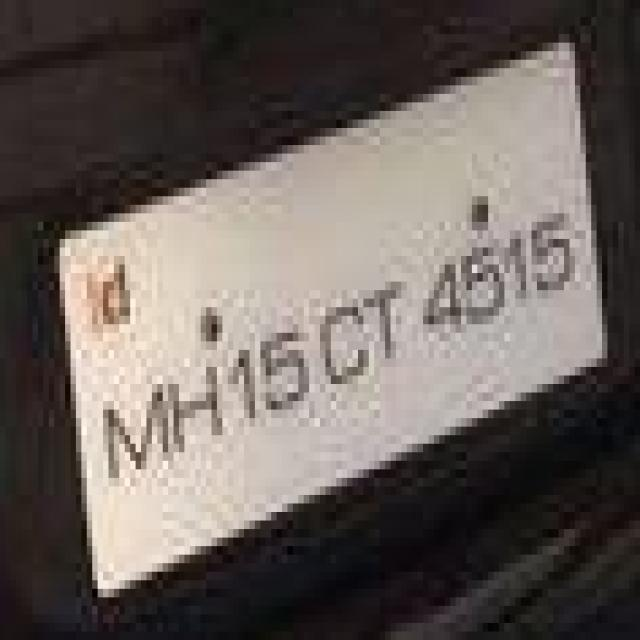plate: (54, 179, 613, 529)
